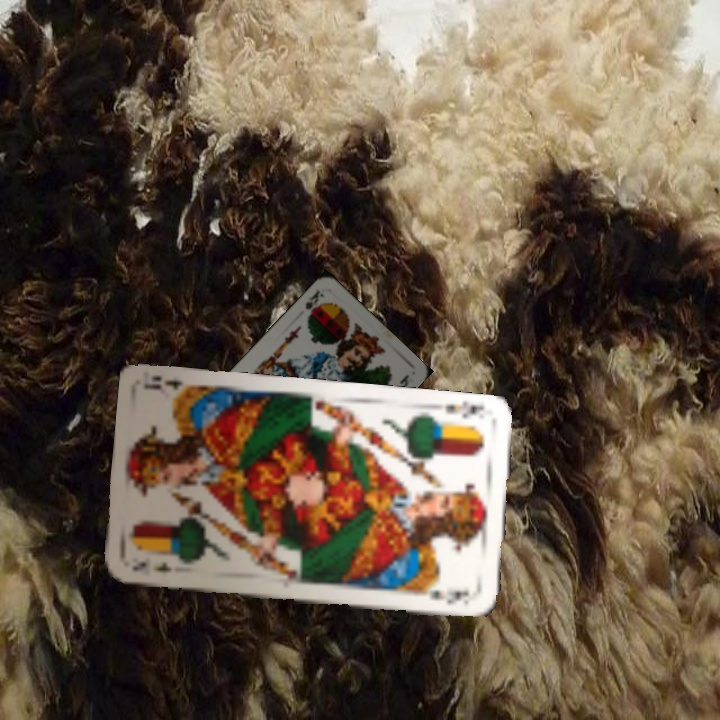EK: (440, 399, 487, 421), (128, 557, 175, 575)
SK: (301, 286, 328, 321)
